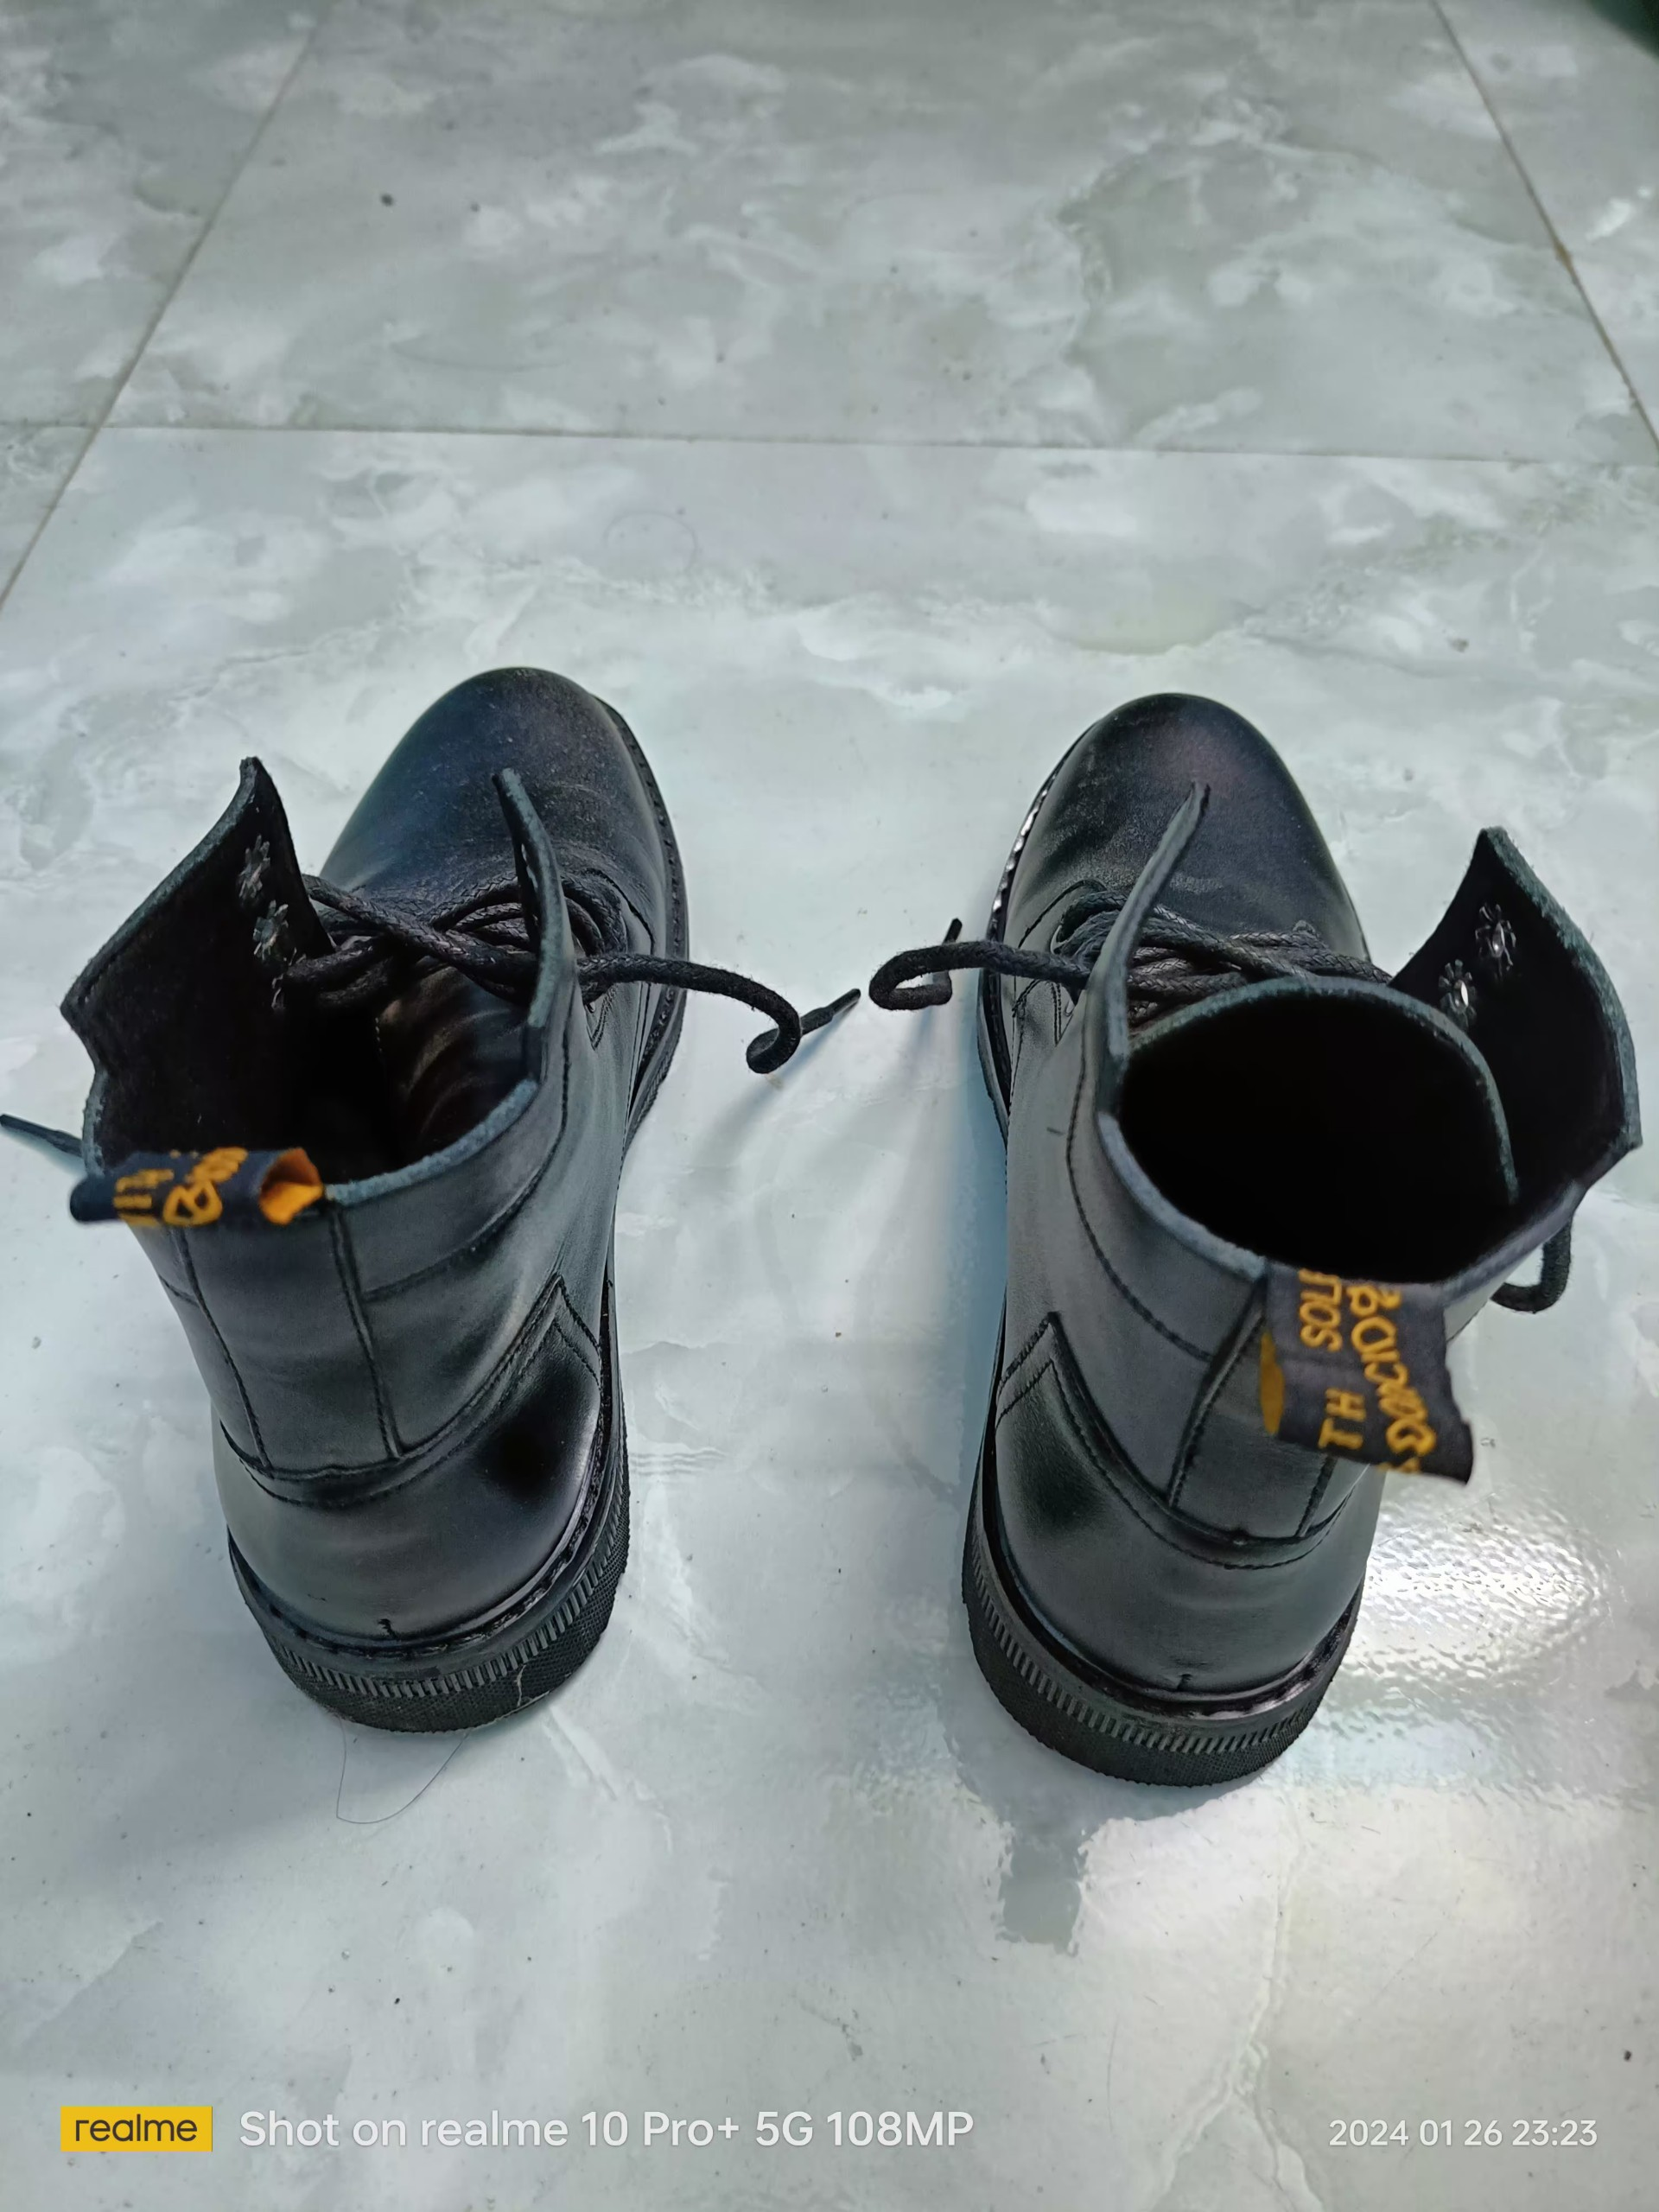boots: (950, 678, 1643, 1789), (64, 664, 694, 1733)
